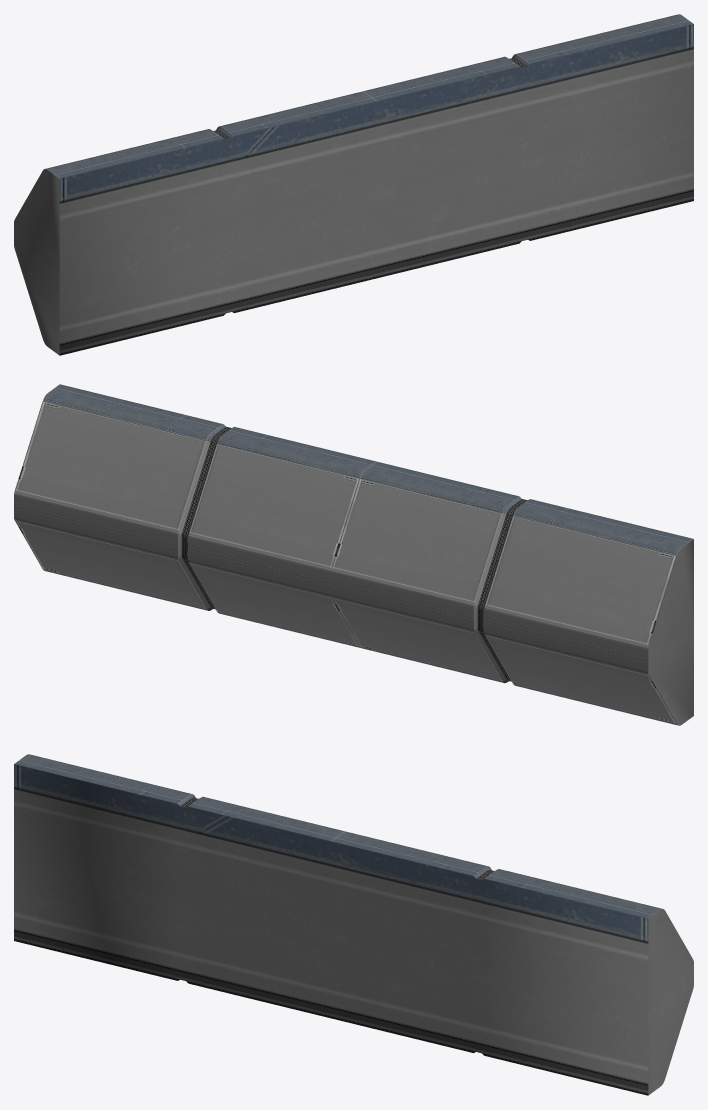
File: Spctr_MeshTrim_01.FBX
3 views of the same model, one above another, from view 1: azimuth 30°, elevation 25°; view 2: azimuth 150°, elevation 25°; view 3: azimuth 330°, elevation 25° (orthographic).
Parts seen in each view (by area): view 1: Spctr_MeshTrim_01; view 2: Spctr_MeshTrim_01; view 3: Spctr_MeshTrim_01.
Boxes of the visible parts, <box> form: Spctr_MeshTrim_01: <box>14,14,693,355</box>; Spctr_MeshTrim_01: <box>14,384,693,725</box>; Spctr_MeshTrim_01: <box>14,754,693,1095</box>.
Size of the model in its own units: 6 by 1.6 by 0.7504.
